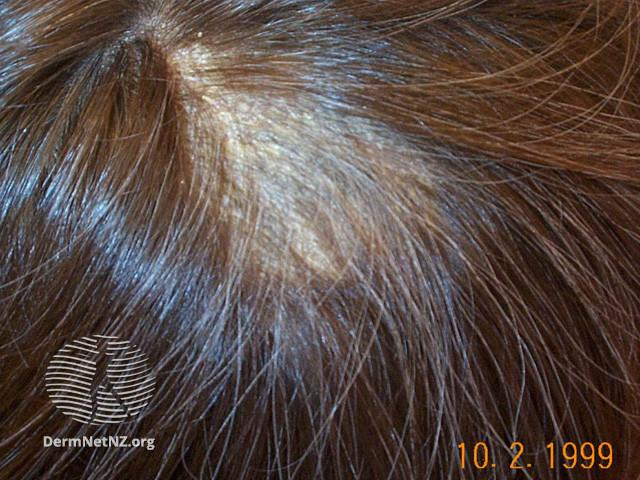Psoriasis: (172, 37, 440, 272)
